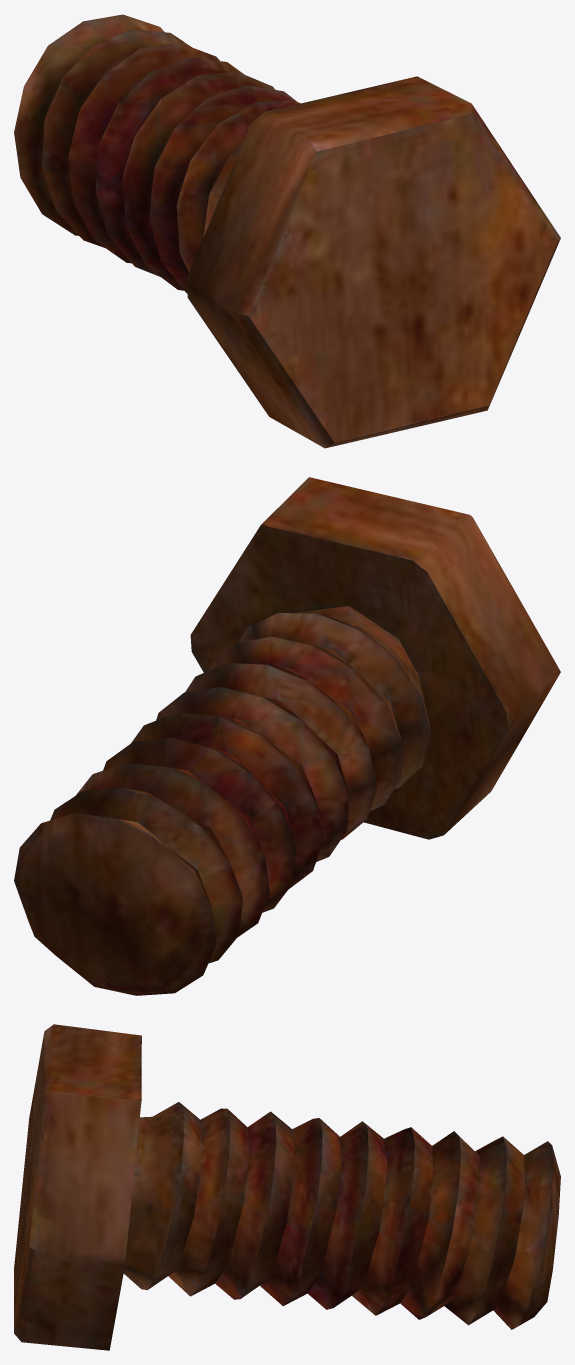
The model's file is bolts_nuts_04.glb.
The picture shows the model from 3 angles, top to bottom: view 1: azimuth 30°, elevation 25°; view 2: azimuth 150°, elevation 25°; view 3: azimuth 270°, elevation 25°; orthographic projection. The views are drawn at different scales.
Parts seen in each view (by area): view 1: bolts_nuts_04; view 2: bolts_nuts_04; view 3: bolts_nuts_04.
Boxes of the visible parts, left/top/right/bottom form: bolts_nuts_04: left=14, top=14, right=560, bottom=448; bolts_nuts_04: left=14, top=477, right=560, bottom=995; bolts_nuts_04: left=14, top=1024, right=560, bottom=1350.
Size of what is drawn, in the model's own units: 0.0446 by 0.0404 by 0.076.
1 material, 1 textured.
